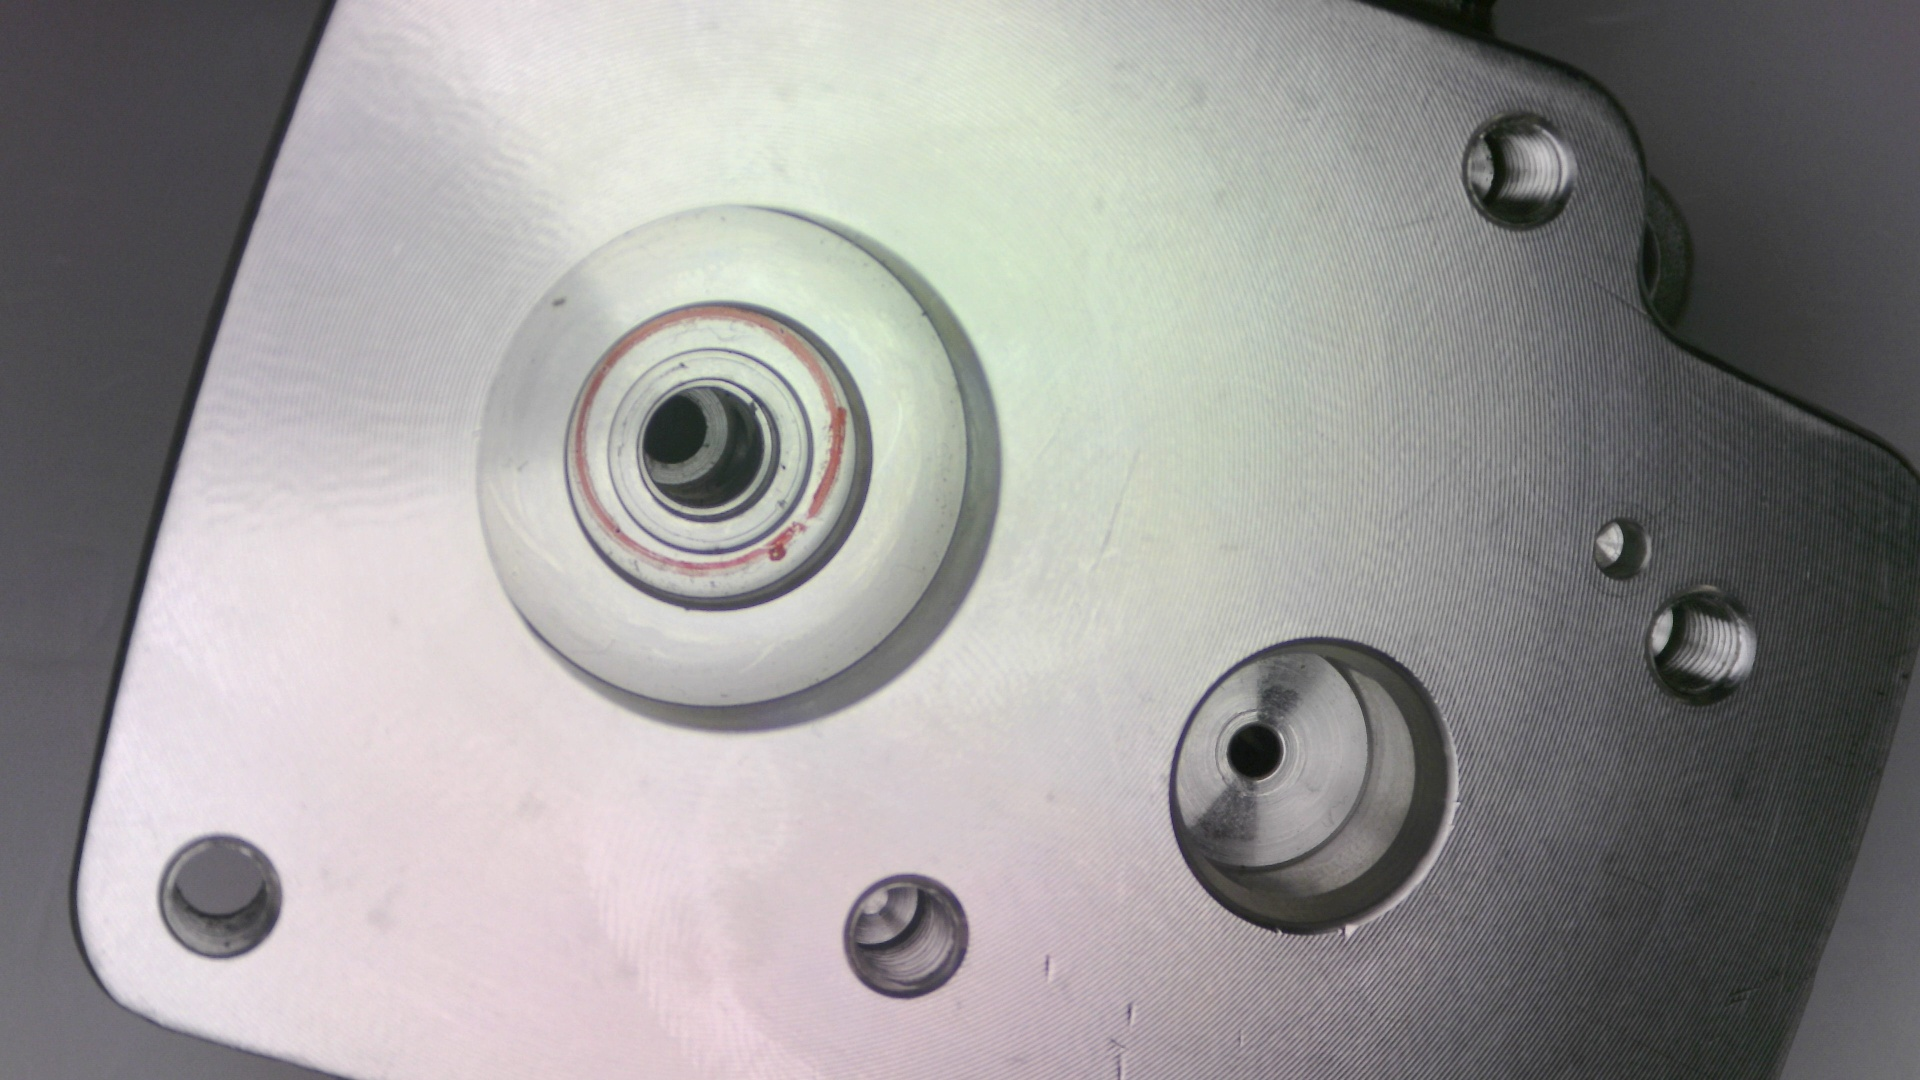chamfer_absence: (1335, 1021, 1518, 1065)
